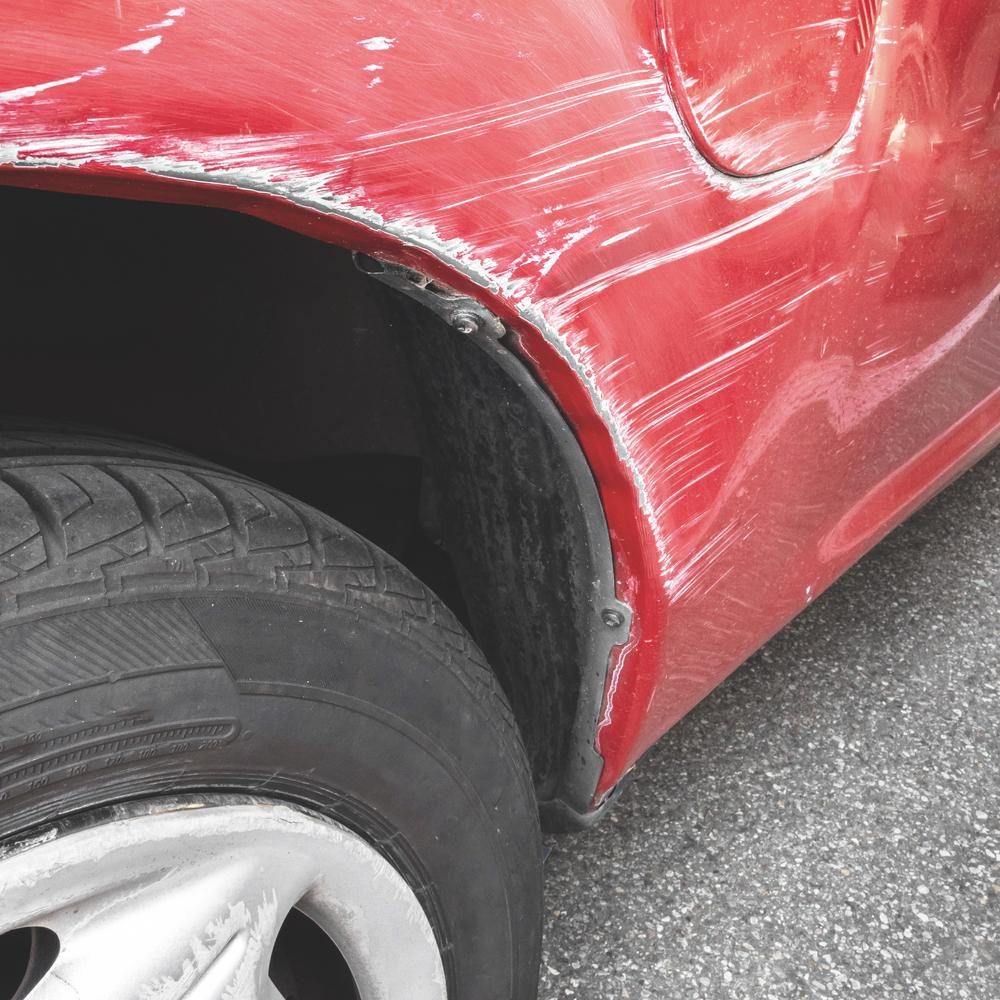scratch: (0, 0, 1000, 622)
